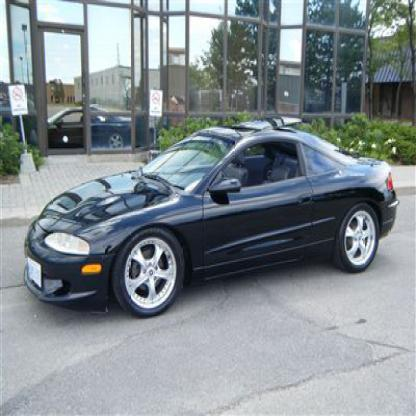Vehicle: (24, 126, 397, 325)
